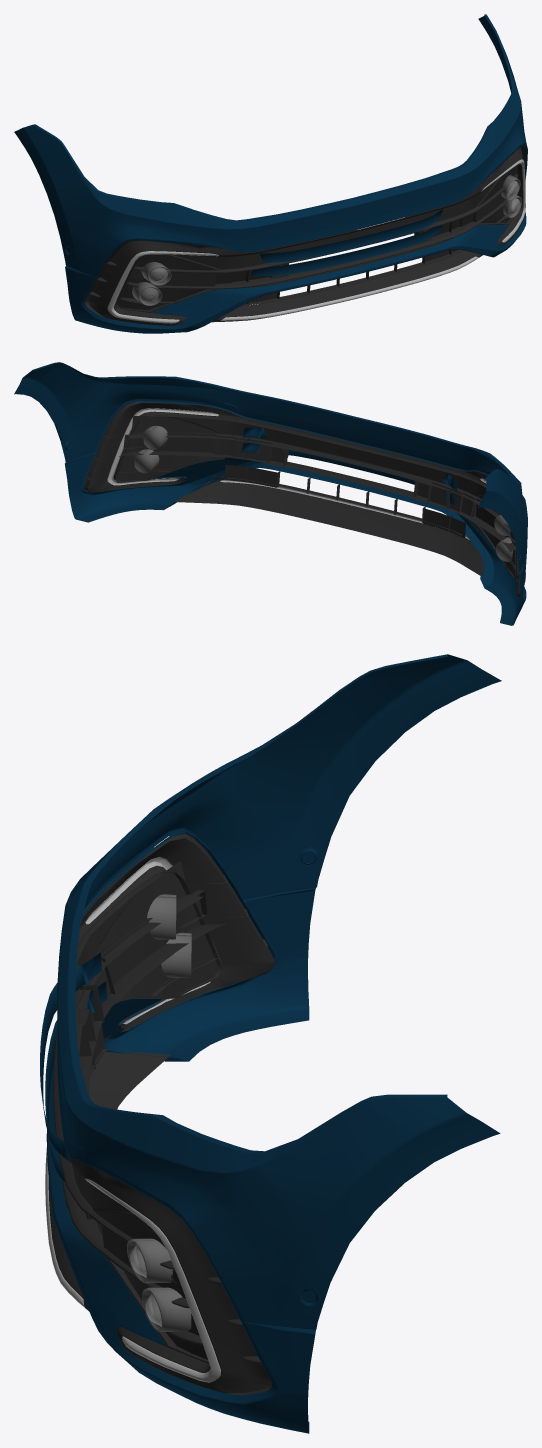
3 views of the same model, one above another, from view 1: azimuth 30°, elevation 25°; view 2: azimuth 150°, elevation 25°; view 3: azimuth 270°, elevation 25° (orthographic). The views are drawn at different scales.
Visible parts, largest first — view 1: front bumper 4; view 2: front bumper 4; view 3: front bumper 4.
Part boxes in pixels (x1=…): front bumper 4: x1=14, y1=14, x2=527, y2=333; front bumper 4: x1=14, y1=362, x2=527, y2=625; front bumper 4: x1=40, y1=654, x2=501, y2=1433.
Size of the model in its own units: 1.89 by 0.6723 by 0.8153.
Materials: 5 (1 with a texture image).
